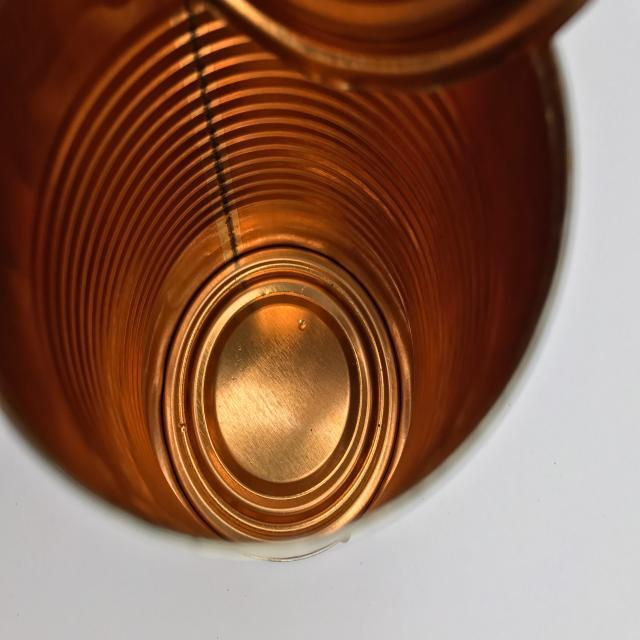metal: (1, 2, 596, 558)
